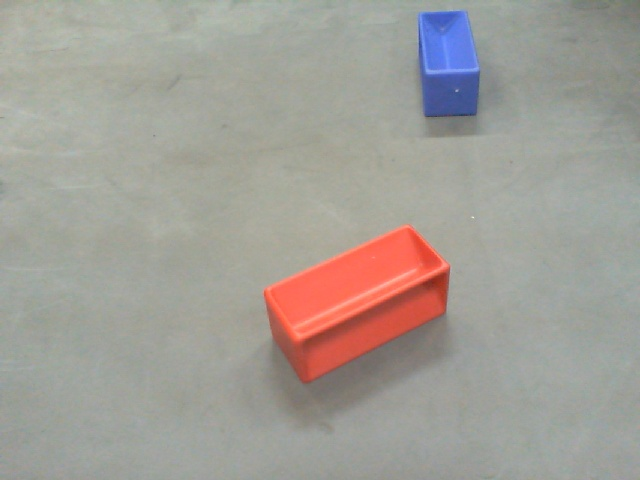BlueSample: (413, 10, 480, 119)
RedSample: (261, 222, 451, 386)
